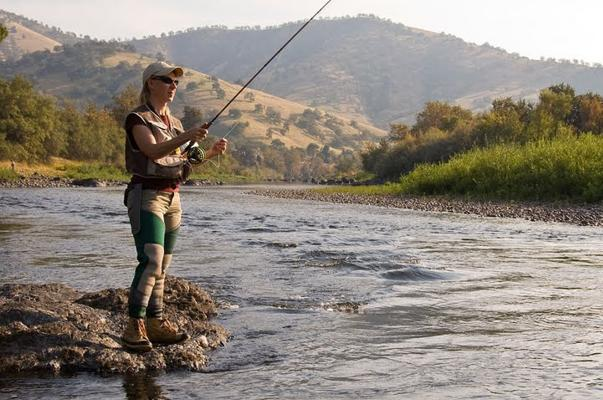person: (122, 60, 228, 350)
